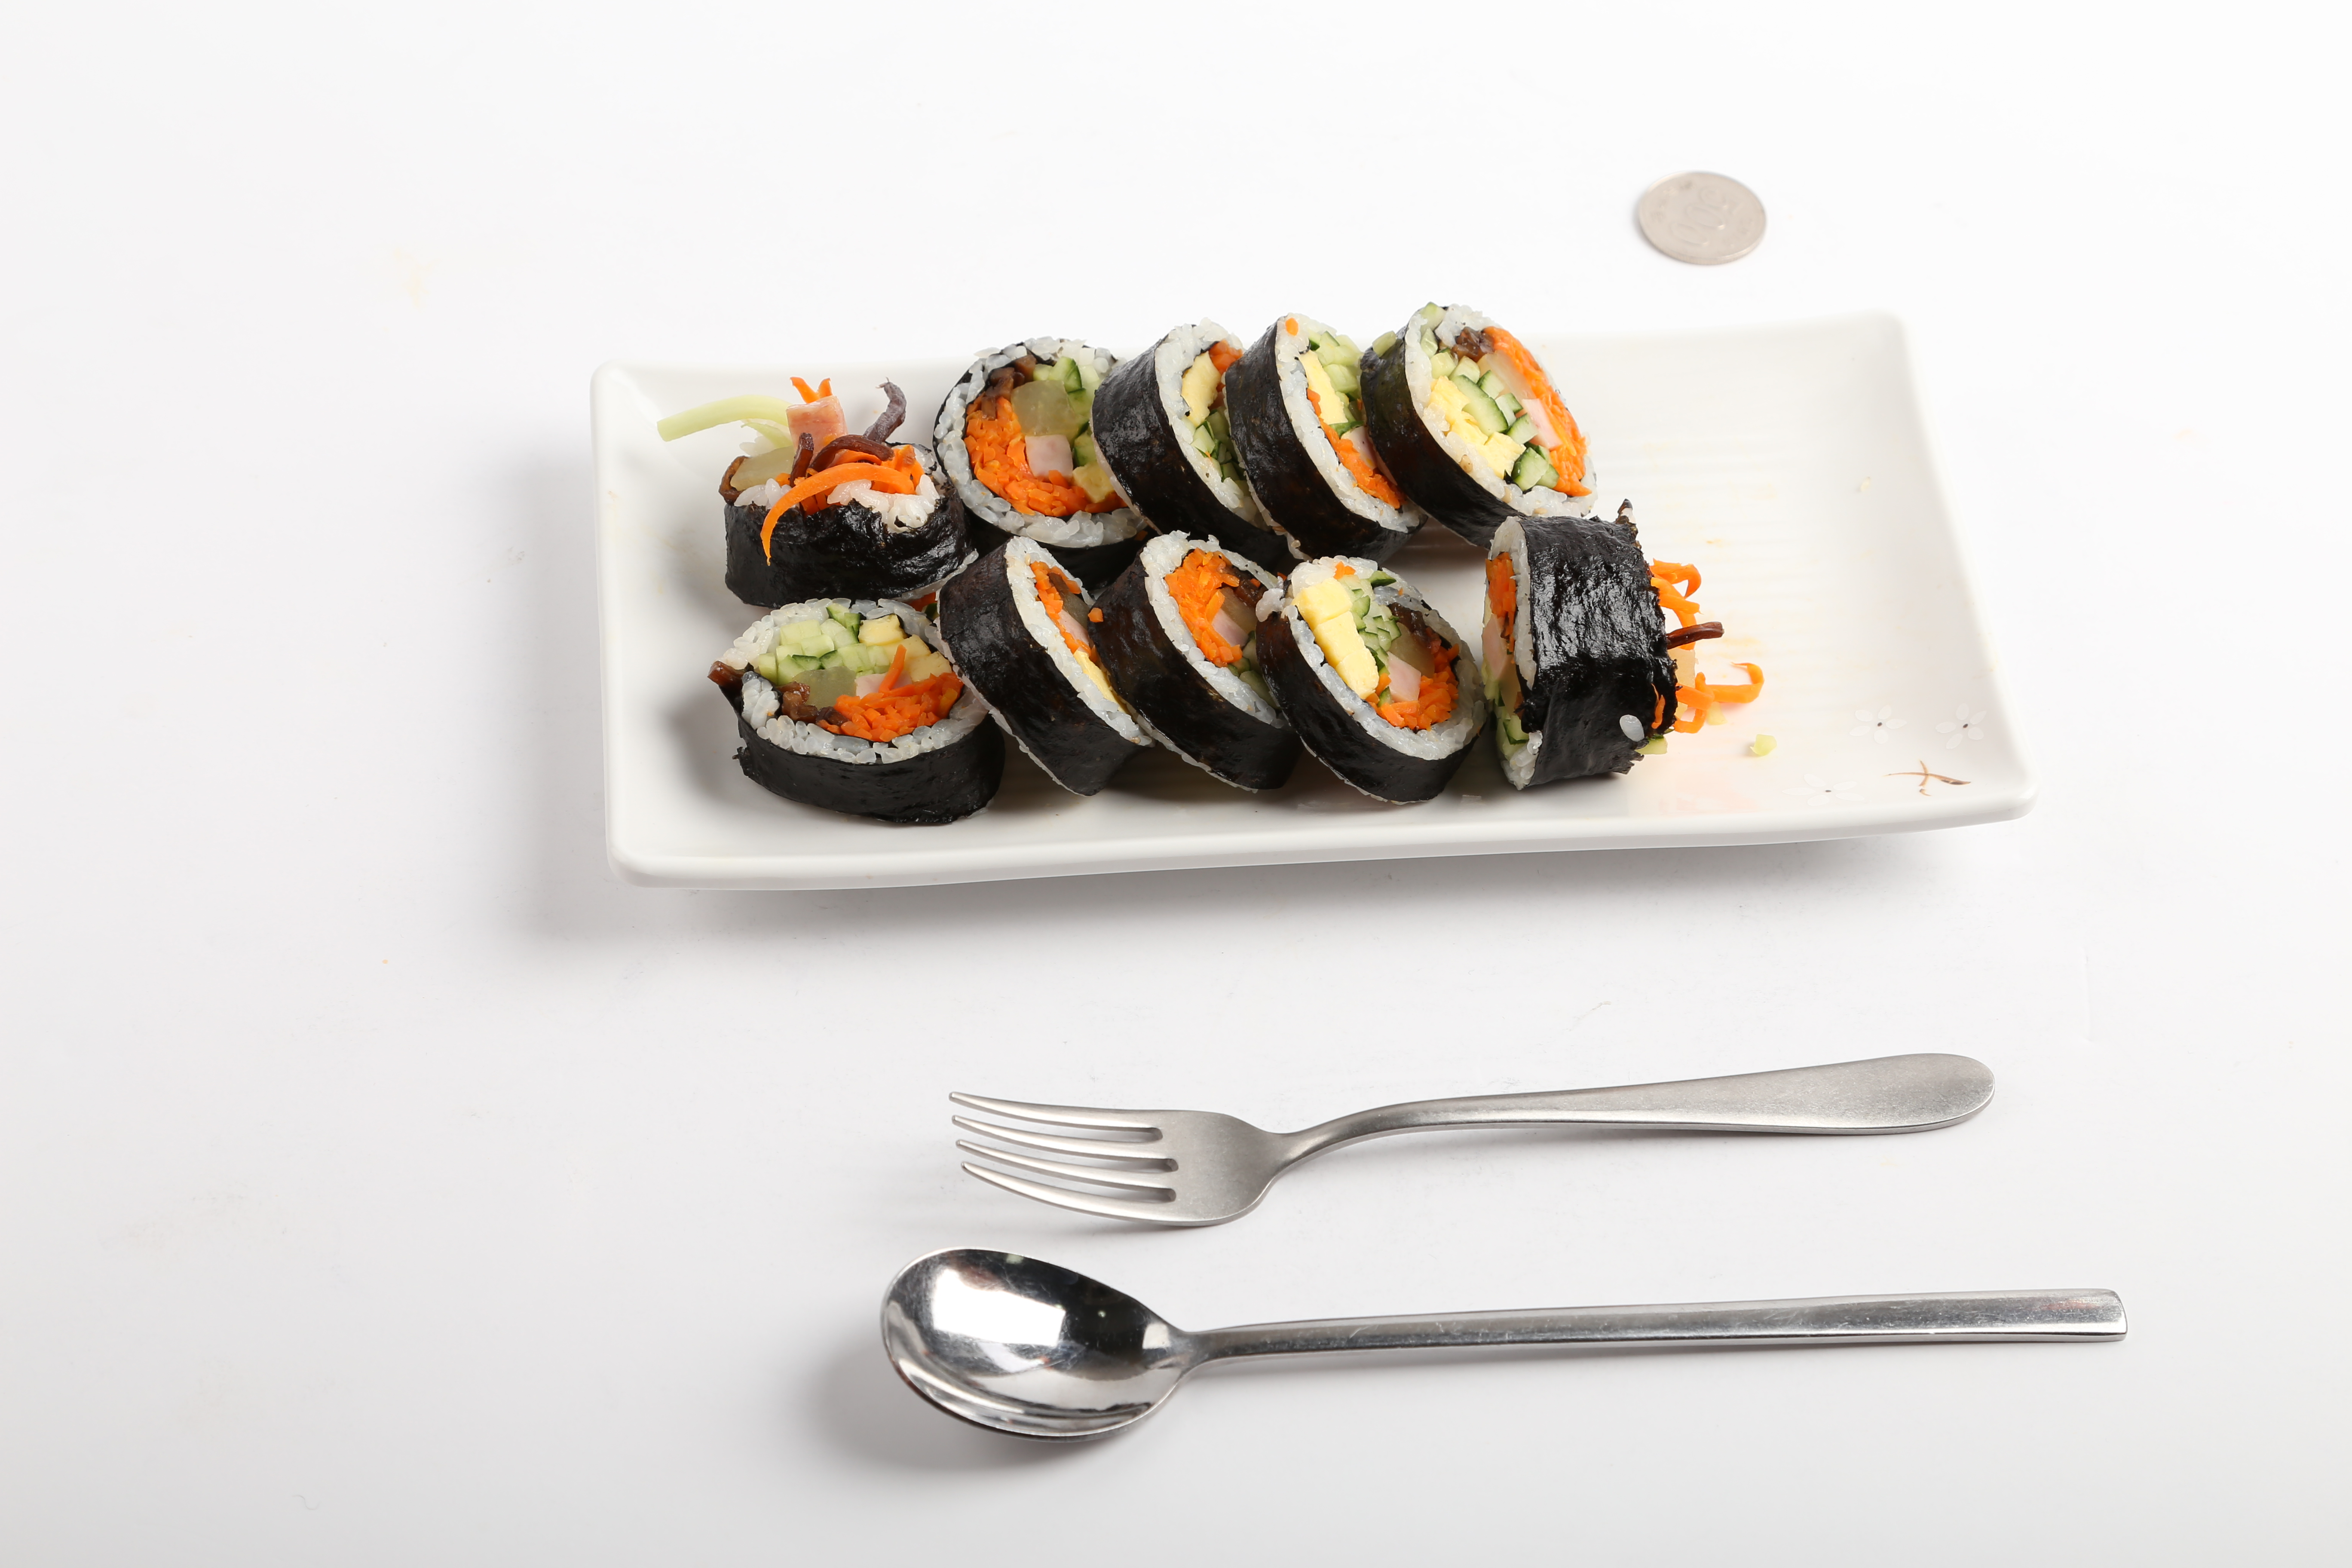dish: (588, 315, 2042, 891)
ref_coin: (1624, 163, 1773, 273)
ref_fork: (943, 1085, 1402, 1228)
ref_spoon: (873, 1242, 1262, 1444)
김밥: (717, 296, 1706, 826)
